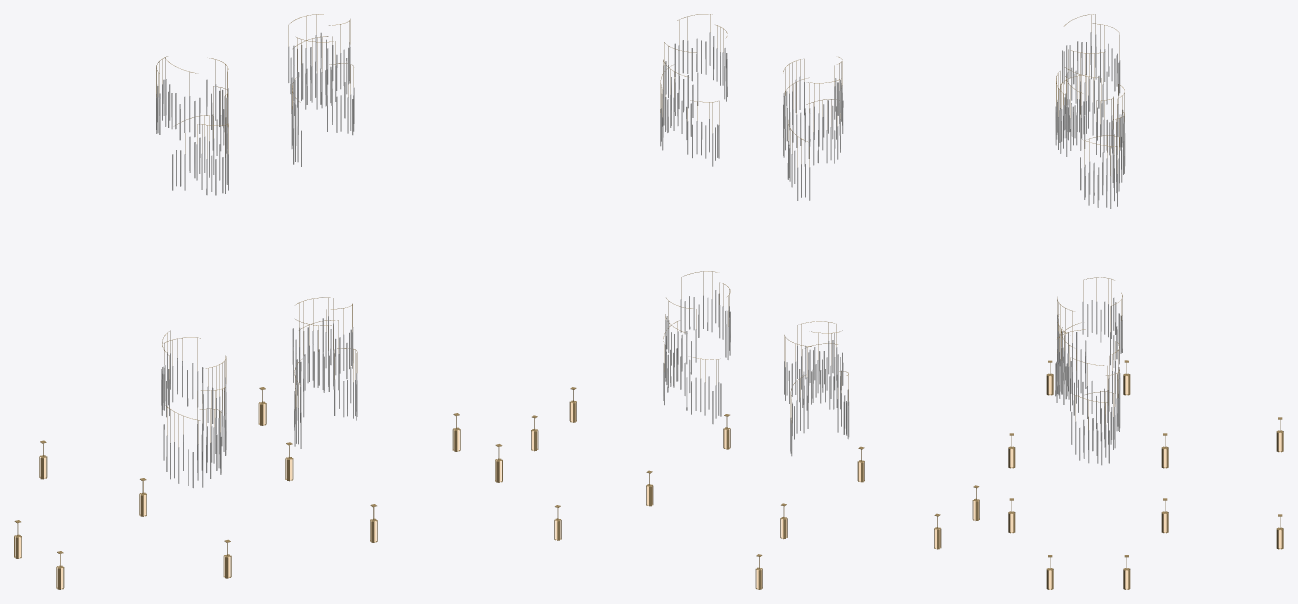
File: Chancery Rosewood_Lighting_BAKE_V4.glb
3 views of the same model, side by side, from view 1: azimuth 30°, elevation 25°; view 2: azimuth 150°, elevation 25°; view 3: azimuth 270°, elevation 25° (orthographic). The views are drawn at different scales.
Parts seen in each view (by area): view 1: Atrium Lights; view 2: Atrium Lights; view 3: Atrium Lights.
Part boxes in pixels (<box>): Atrium Lights: <box>14,14,502,589</box>; Atrium Lights: <box>531,14,979,589</box>; Atrium Lights: <box>1008,14,1283,589</box>.
Bounding box in the file's own units: 20.7 × 22.11 × 12.2.
